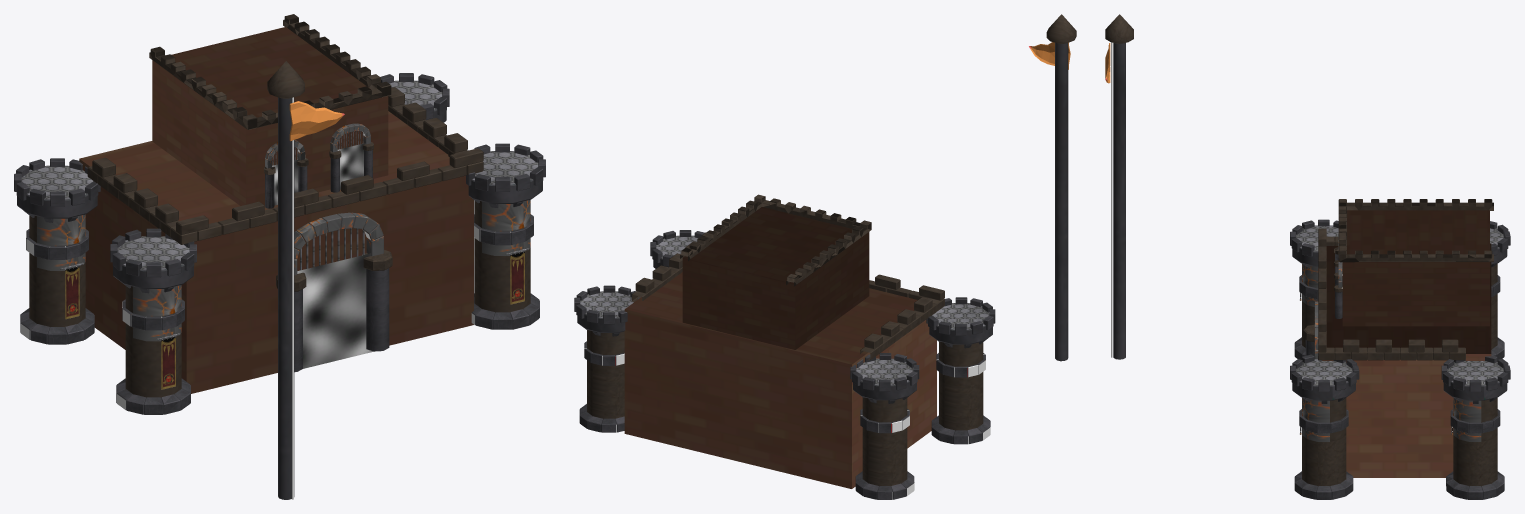
Rendered from Castle.fbx.
The picture shows the model from 3 angles, left to right: view 1: azimuth 30°, elevation 25°; view 2: azimuth 150°, elevation 25°; view 3: azimuth 270°, elevation 25°; orthographic projection. The views are drawn at different scales.
Parts seen in each view (by area): view 1: Object010, Object012, Cylinder001; view 2: Object010, Object012, Cylinder001; view 3: Object010, Object012, Cylinder001.
Boxes of the visible parts, <box> form: Object010: <box>79,14,483,393</box>; Object012: <box>14,73,545,414</box>; Cylinder001: <box>267,61,344,499</box>; Object010: <box>624,194,944,488</box>; Object012: <box>574,230,995,499</box>; Cylinder001: <box>1029,14,1076,361</box>; Object010: <box>1303,199,1493,477</box>; Object012: <box>1290,219,1510,499</box>; Cylinder001: <box>1105,14,1133,359</box>.
Size of the model in its own units: 714 by 701 by 751.
